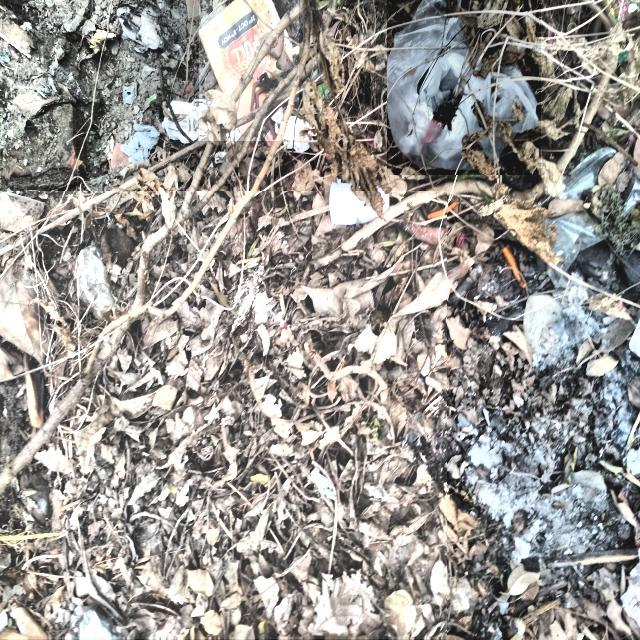anorganik: (388, 0, 540, 175)
organik: (0, 192, 447, 638), (200, 0, 299, 141)
